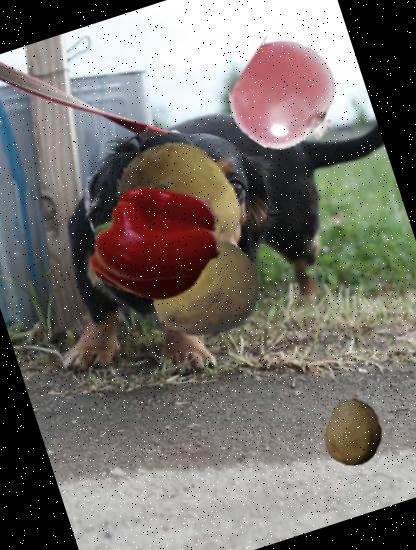Lemon: (136, 219, 276, 358)
Papaya: (310, 388, 396, 475)
Pepper: (77, 163, 236, 322)
Potato: (92, 114, 262, 283)
Redcurrant: (218, 28, 358, 167)
